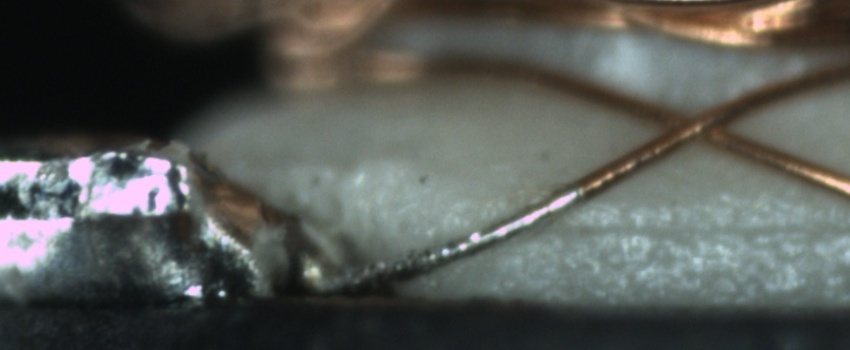CL: (646, 94, 747, 155)
DL: (559, 200, 850, 257)
TS: (310, 185, 582, 292)
